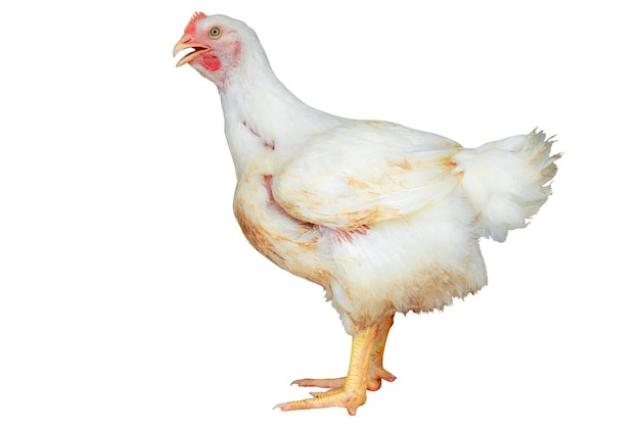Chicken: (171, 11, 566, 421)
